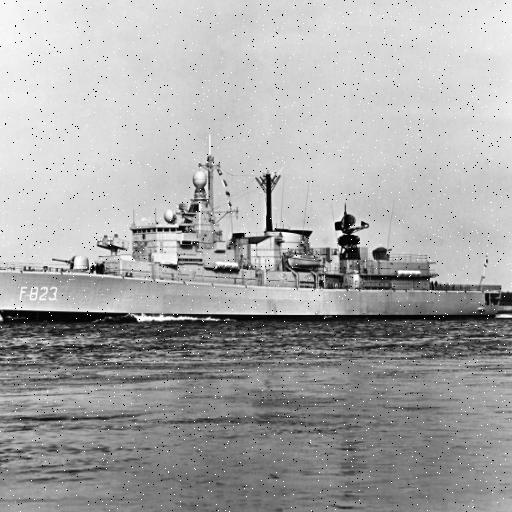Fragata: (1, 125, 507, 335)
